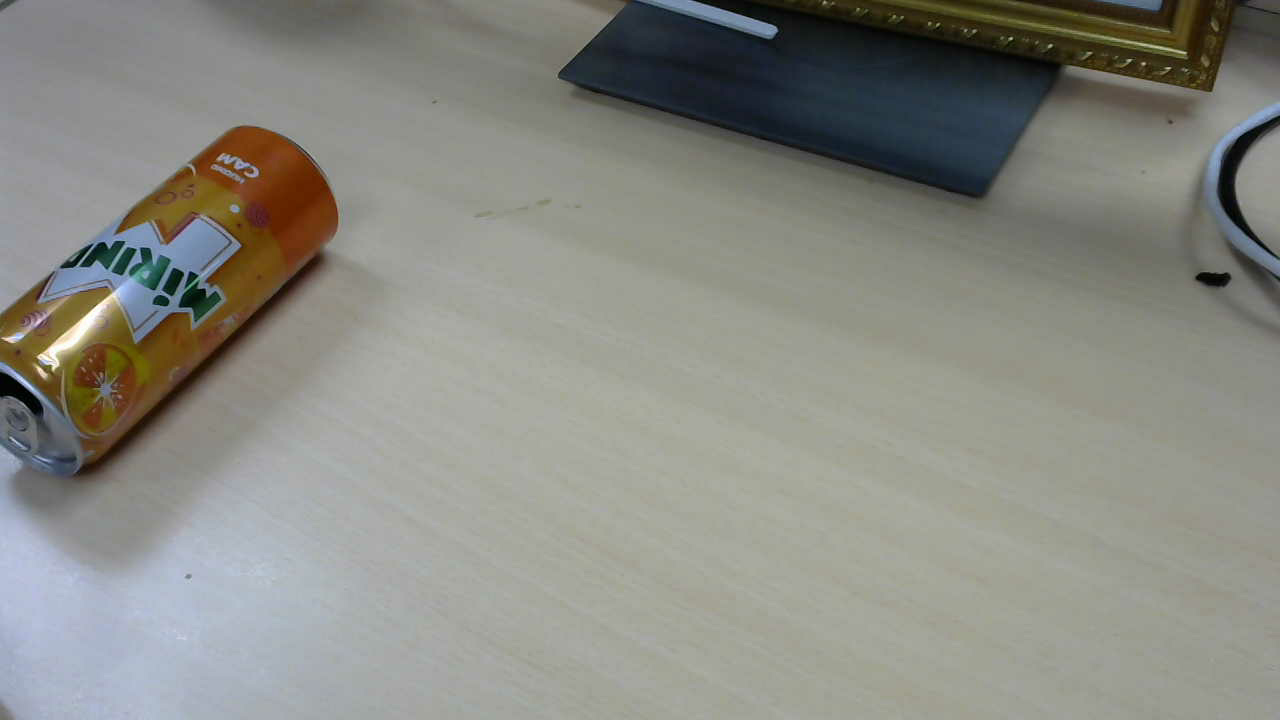Mirinda: (4, 129, 343, 484)
